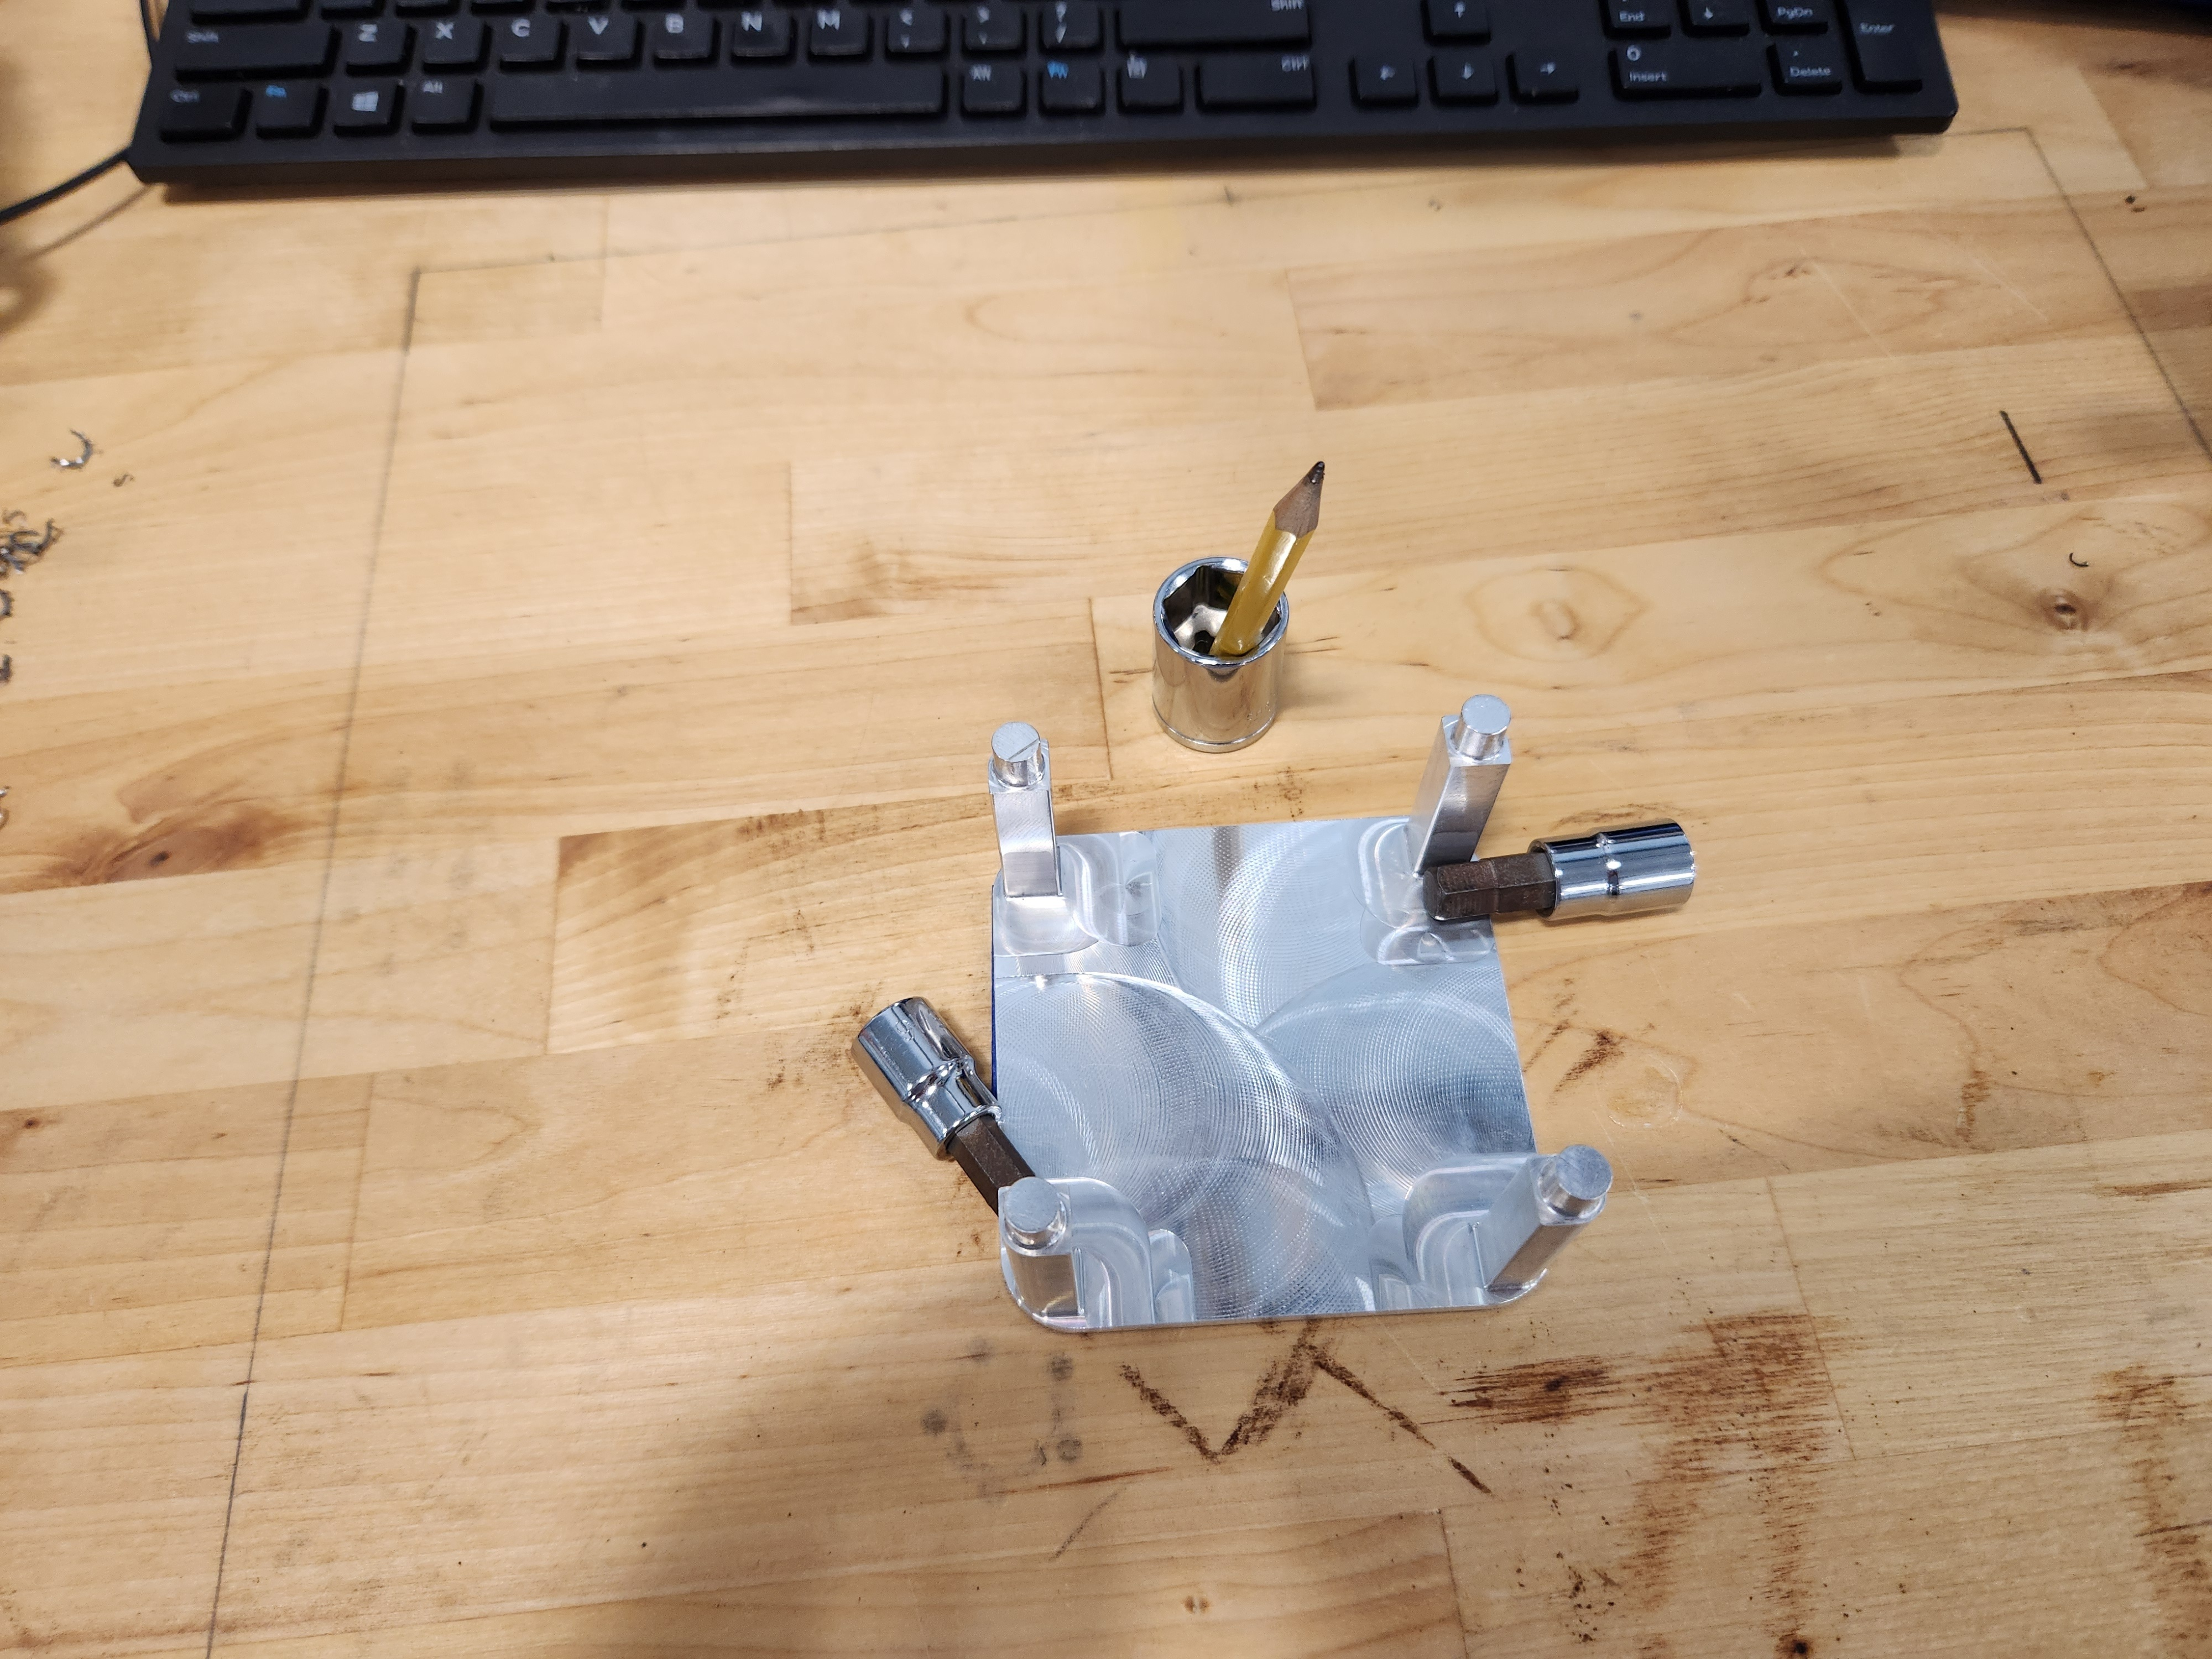pencil: (1205, 450, 1338, 660)
tool bit: (845, 988, 1038, 1223), (1141, 547, 1298, 762)
